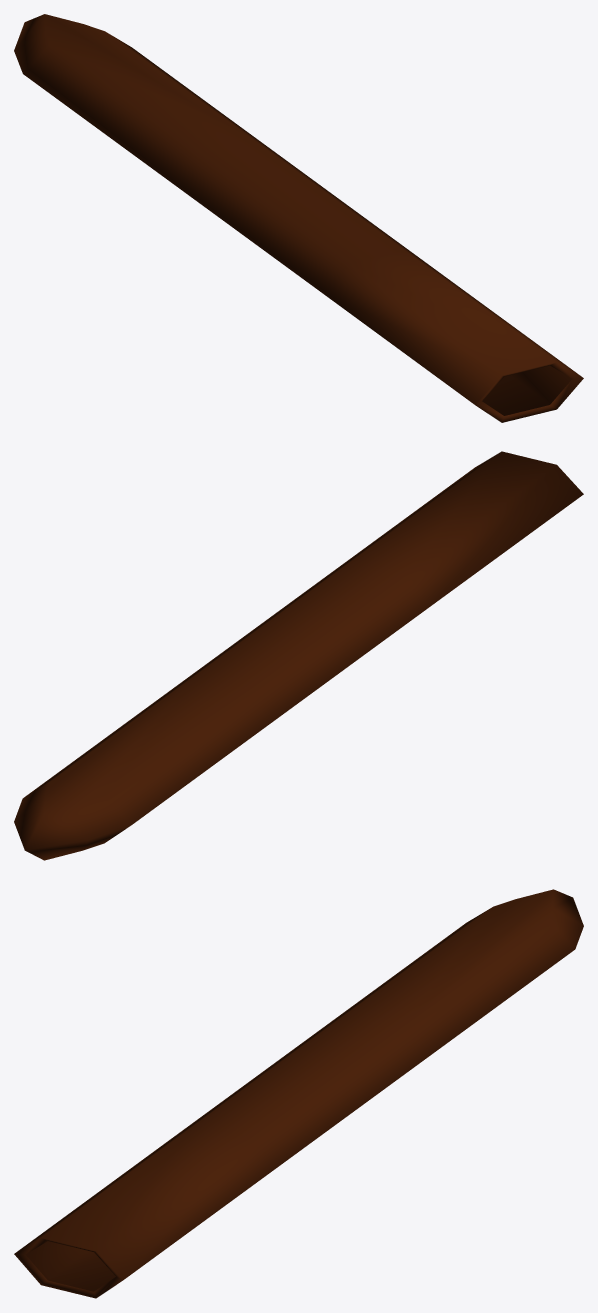
File: SwordBundle_02.fbx
3 views of the same model, one above another, from view 1: azimuth 30°, elevation 25°; view 2: azimuth 150°, elevation 25°; view 3: azimuth 330°, elevation 25° (orthographic).
Visible parts, largest first — view 1: Bundle; view 2: Bundle; view 3: Bundle.
Part boxes in pixels (x1,y1,x2,y2): Bundle: (14,14,583,422); Bundle: (14,451,583,860); Bundle: (14,889,583,1298).
Bounding box in the file's own units: 0.1129 × 0.0469 × 0.905.
